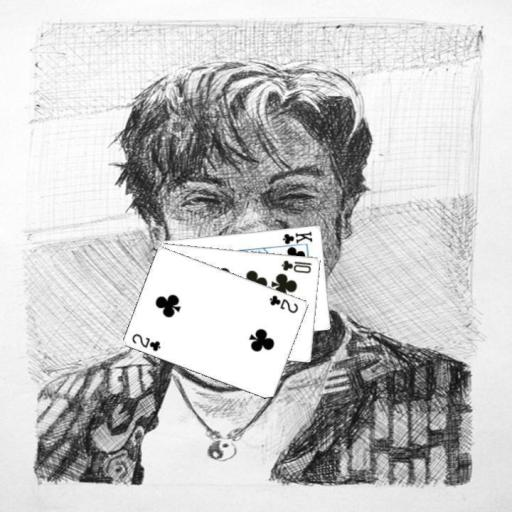card-corner: (277, 228, 314, 249), (129, 330, 162, 353), (267, 292, 300, 314), (279, 256, 313, 274)
